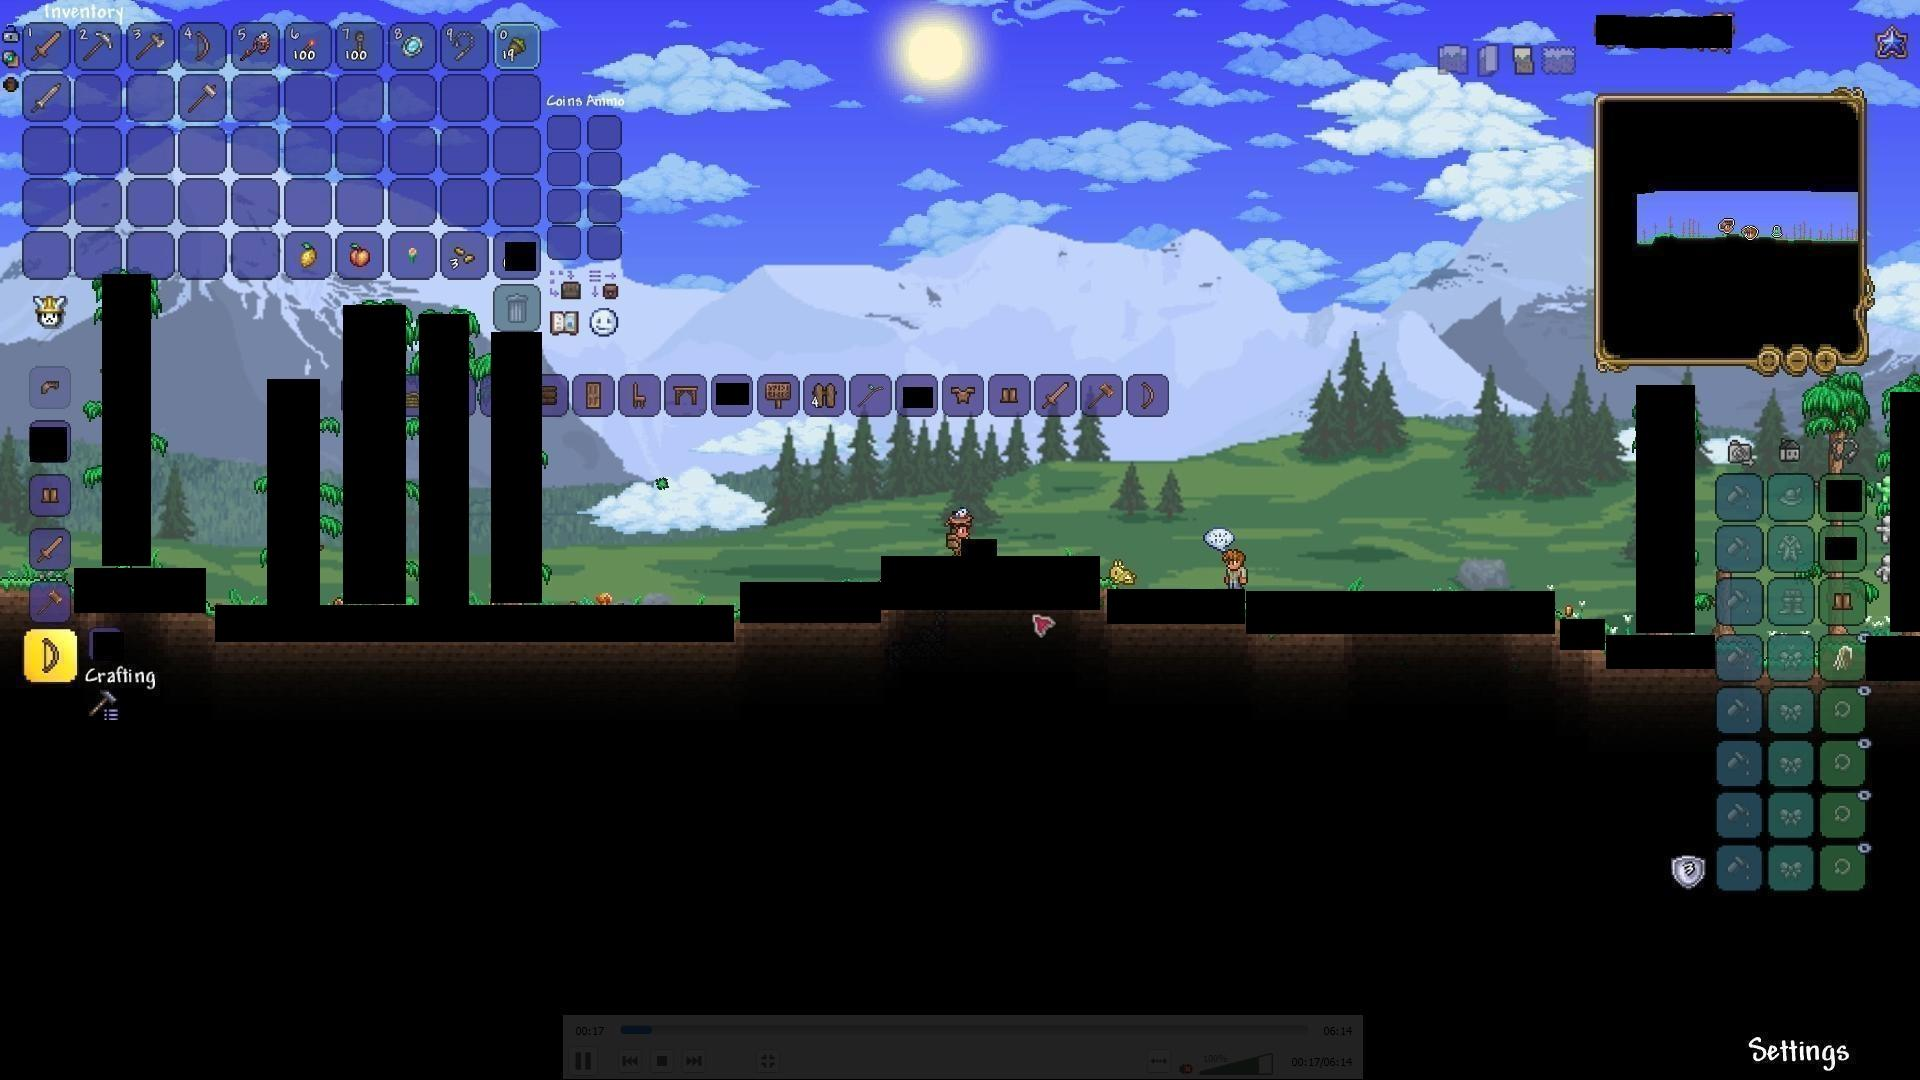breastplate: (948, 375, 984, 409)
dirt: (0, 567, 30, 607)
helmet: (33, 371, 69, 401)
legs: (1830, 588, 1855, 618), (38, 481, 65, 506), (997, 382, 1023, 407)
